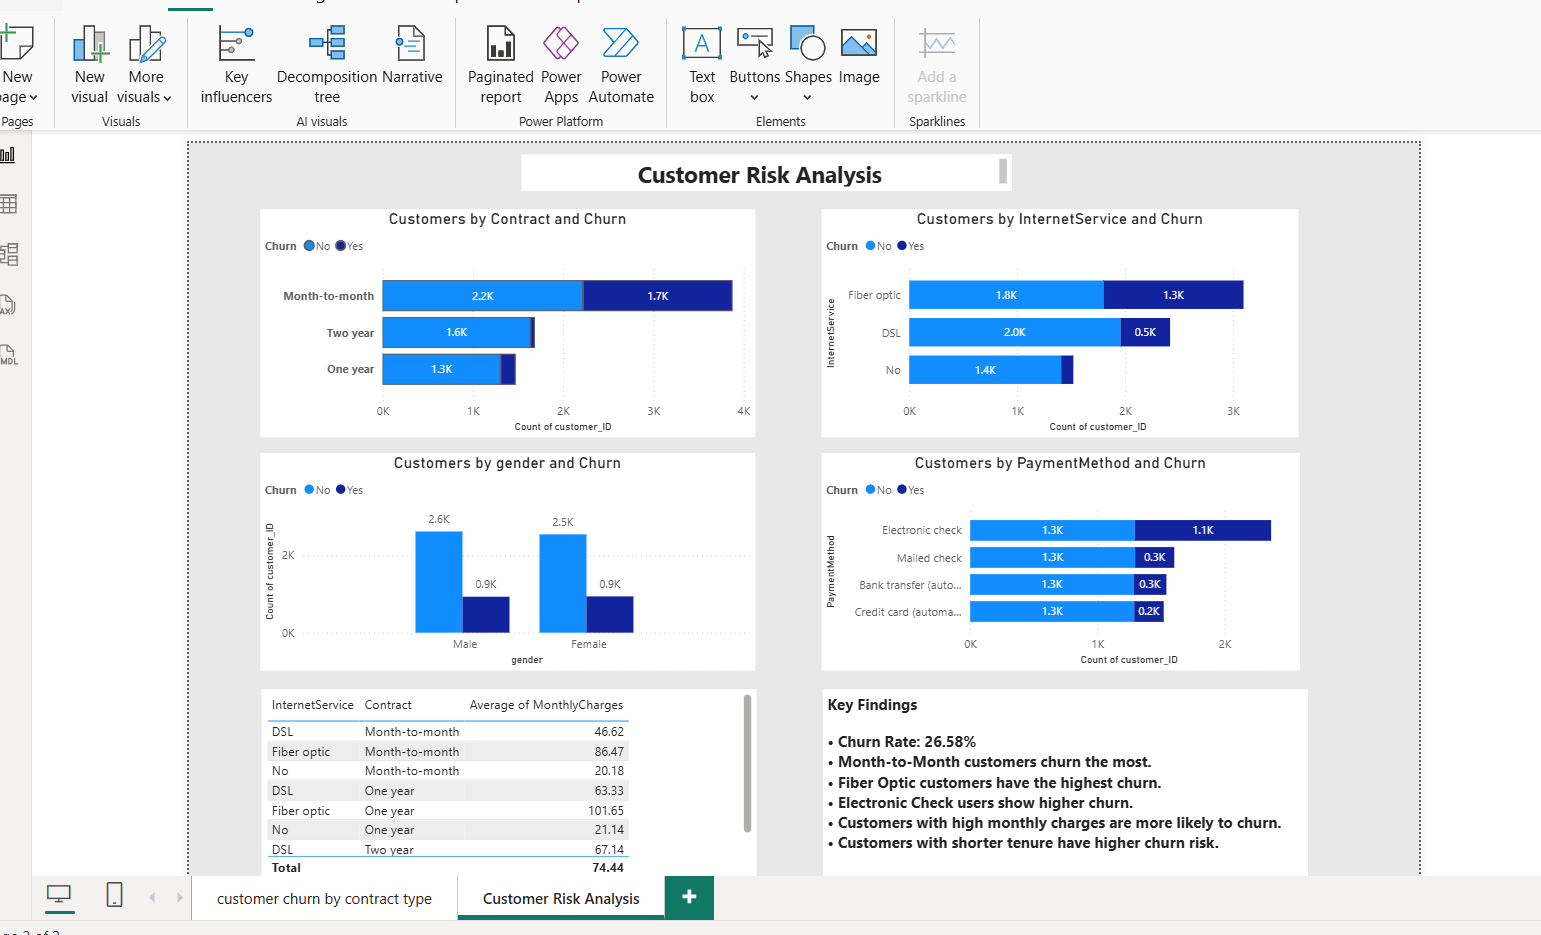

The page's visual inventory and layout, read from the dashboard file:
{"tool":"powerbi","page":{"name":"Customer Risk Analysis ","canvas":[1312,798],"ordinal":1},"visuals":[{"type":"barChart","title":"Customers by Contract and Churn","fields":{"Category":["Cleaned_customer_churn.Contract"],"Y":["CountNonNull(Cleaned_customer_churn.customer_ID)"],"Series":["Cleaned_customer_churn.Churn"]},"box":[75.9,70.9,527.8,243],"z":0},{"type":"barChart","title":" Customers by InternetService and Churn","fields":{"Category":["Cleaned_customer_churn.InternetService"],"Series":["Cleaned_customer_churn.Churn"],"Y":["CountNonNull(Cleaned_customer_churn.customer_ID)"]},"box":[674.7,70.9,508.9,243],"z":1},{"type":"barChart","title":" Customers by PaymentMethod and Churn","fields":{"Category":["Cleaned_customer_churn.PaymentMethod"],"Y":["CountNonNull(Cleaned_customer_churn.customer_ID)"],"Series":["Cleaned_customer_churn.Churn"]},"box":[674.7,330.4,510.1,231.6],"z":2},{"type":"clusteredColumnChart","title":"Customers by gender and Churn","fields":{"Category":["Cleaned_customer_churn.gender"],"Series":["Cleaned_customer_churn.Churn"],"Y":["CountNonNull(Cleaned_customer_churn.customer_ID)"]},"box":[75.9,330.4,527.8,231.6],"z":3},{"type":"tableEx","fields":{"Values":["Cleaned_customer_churn.InternetService","Cleaned_customer_churn.Contract","Avg(Cleaned_customer_churn.MonthlyCharges)"]},"box":[77.2,582.3,527.8,203.8],"z":4},{"type":"textbox","box":[675.9,582.3,517.7,203.8],"z":5},{"type":"textbox","box":[354.1,12.2,523,39.2],"z":6}]}

Visuals, with their boxes on the page's 1312x798 design canvas (x1, y1, x2, y2). These are canvas units, not pixel positions in the 1541x935 screenshot, which may show the page scaled, cropped or inside an application window:
"Customers by Contract and Churn" barChart: bbox(76, 71, 604, 314)
" Customers by InternetService and Churn" barChart: bbox(675, 71, 1184, 314)
" Customers by PaymentMethod and Churn" barChart: bbox(675, 330, 1185, 562)
"Customers by gender and Churn" clusteredColumnChart: bbox(76, 330, 604, 562)
tableEx - Cleaned_customer_churn.InternetService x Cleaned_customer_churn.Contract: bbox(77, 582, 605, 786)
textbox: bbox(676, 582, 1194, 786)
textbox: bbox(354, 12, 877, 51)
